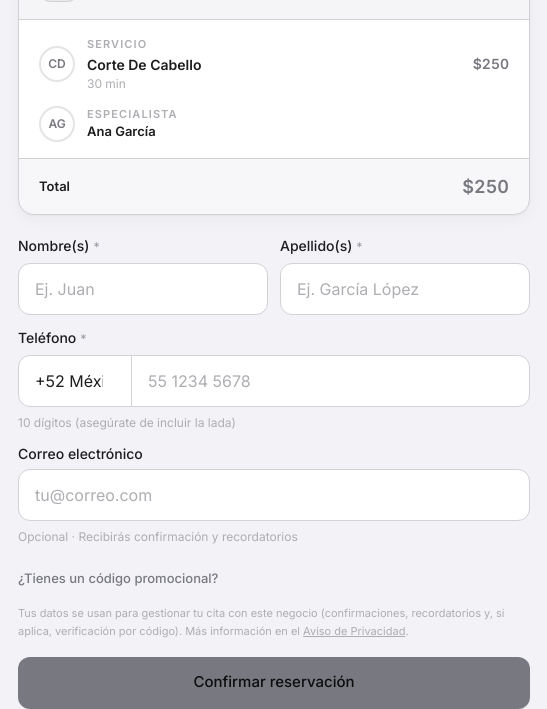
ClientForm — código promocional › código real pero no aplica (per_client_limit): conserva el pricing autoritativo en vez de descartarlo
(page scrolled)
Click the button "¿Tienes un código promocional?" at x=118, y=579, box [18, 569, 218, 588]
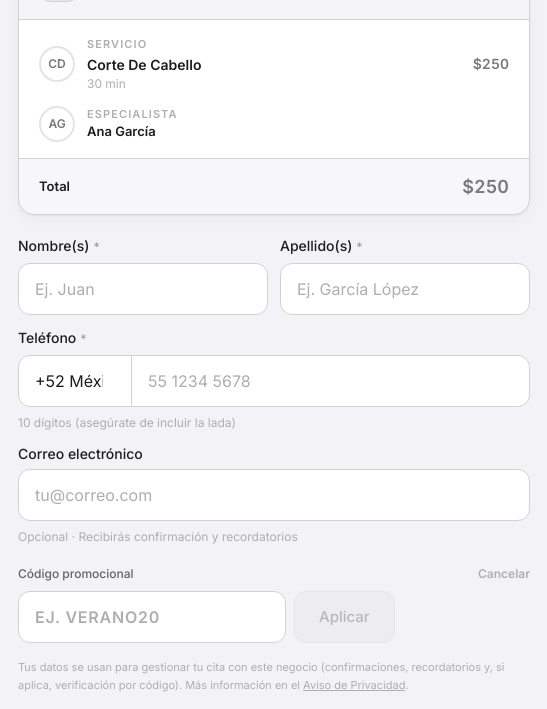
Type "USADO" into the field with placeholder "Ej. VERANO20" at x=152, y=617, box [18, 591, 286, 643]
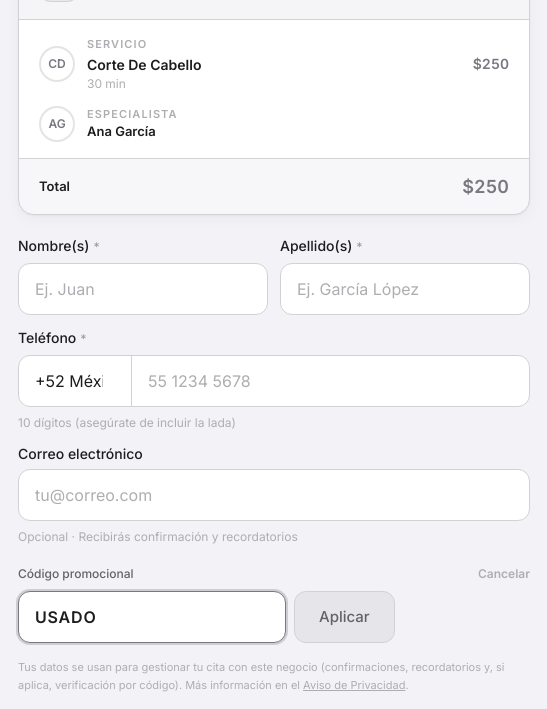
Click the button "Aplicar" at x=344, y=617, box [294, 591, 395, 643]
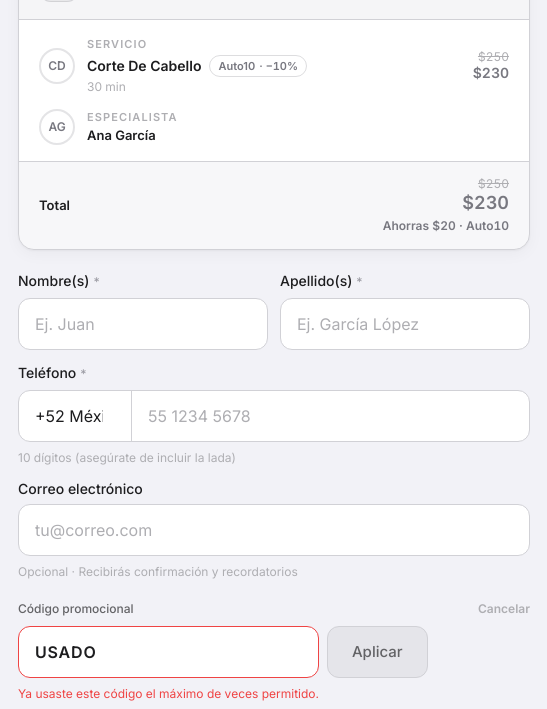
expect the text "Ya usaste este código el máximo de veces permitido." is shown: met, box [18, 686, 319, 702]
expect the text "Ahorras $20 · Auto10" is shown: met, box [383, 216, 509, 234]
